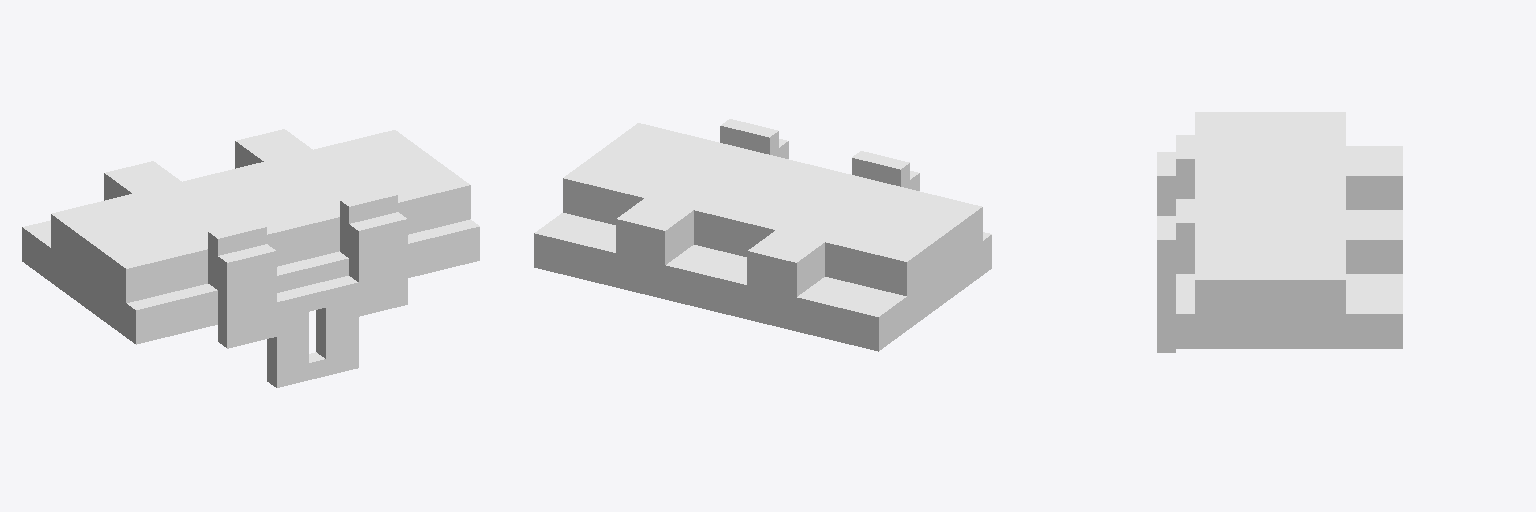
Rendered from Iron1.obj.
3 views of the same model, side by side, from view 1: azimuth 30°, elevation 25°; view 2: azimuth 150°, elevation 25°; view 3: azimuth 270°, elevation 25° (orthographic).
Parts seen in each view (by area): view 1: object 1; view 2: object 1; view 3: object 1.
Part boxes in pixels (bbox=[...]): object 1: bbox=[22, 129, 479, 387]; object 1: bbox=[534, 119, 991, 351]; object 1: bbox=[1157, 112, 1402, 352].
Bounding box in the file's own units: 2.1 × 0.9 × 1.3.